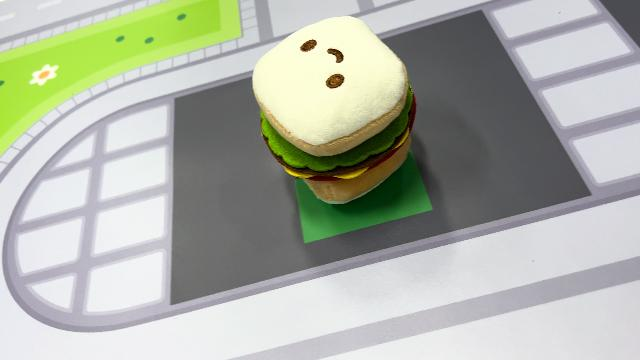sandwich: (248, 14, 420, 206)
